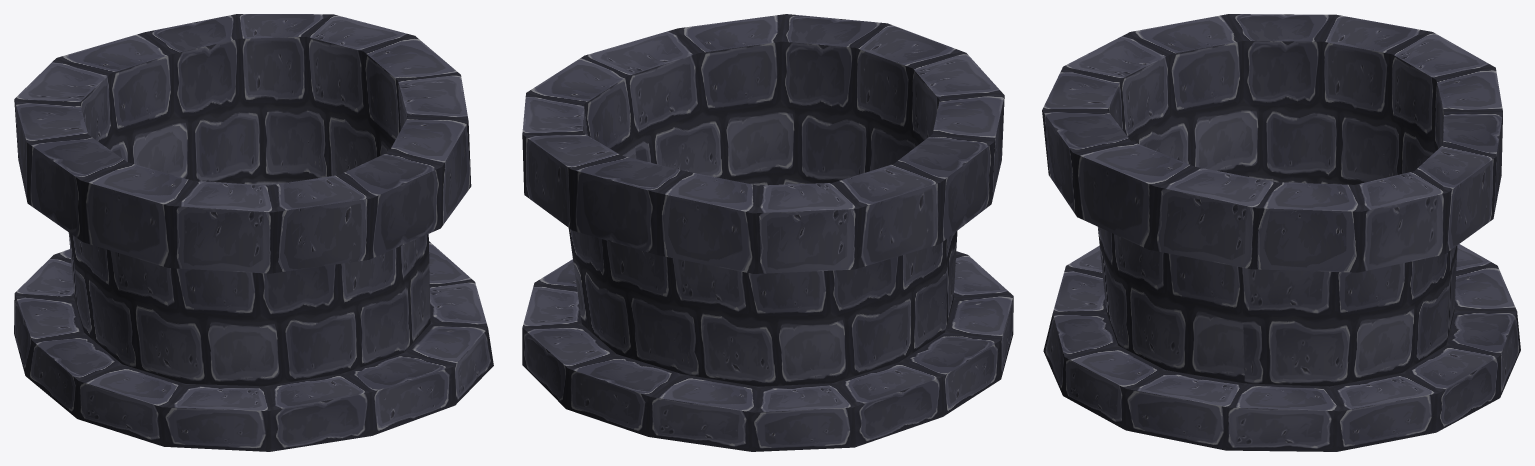
The model's file is SM_PROP_well_dungeon_01.fbx.
3 views of the same model, side by side, from view 1: azimuth 30°, elevation 25°; view 2: azimuth 150°, elevation 25°; view 3: azimuth 270°, elevation 25° (orthographic).
Parts seen in each view (by area): view 1: SM_PROP_well_dungeon_01; view 2: SM_PROP_well_dungeon_01; view 3: SM_PROP_well_dungeon_01.
Boxes of the visible parts, <box> form: SM_PROP_well_dungeon_01: <box>14,14,493,451</box>; SM_PROP_well_dungeon_01: <box>522,14,1013,451</box>; SM_PROP_well_dungeon_01: <box>1042,14,1520,451</box>.
Bounding box in the file's own units: 207 × 116 × 208.
